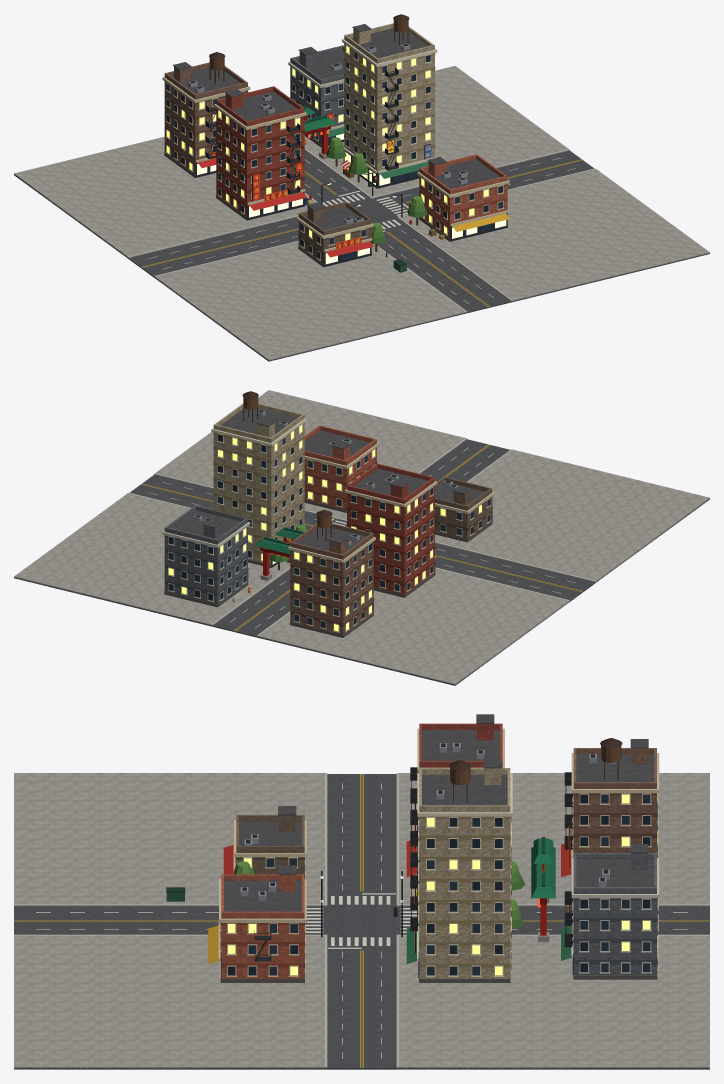
3 views of the same model, one above another, from view 1: azimuth 30°, elevation 25°; view 2: azimuth 150°, elevation 25°; view 3: azimuth 270°, elevation 25° (orthographic). The views are drawn at different scales.
Visible parts, largest first — view 1: street, midrise, tenement, shop_w, rowhouse, lowshop, shop_e, arch; view 2: street, midrise, tenement, shop_w, shop_e, rowhouse, lowshop, arch; view 3: street, midrise, shop_e, shop_w, rowhouse, lowshop, tenement, arch.
Boxes of the visible parts, <box> form: street: <box>14,66,709,361</box>; midrise: <box>342,14,437,188</box>; tenement: <box>214,86,306,220</box>; shop_w: <box>162,52,250,177</box>; rowhouse: <box>417,154,509,241</box>; lowshop: <box>296,201,373,267</box>; shop_e: <box>288,45,344,147</box>; arch: <box>302,106,337,159</box>; street: <box>14,390,709,685</box>; midrise: <box>211,391,306,567</box>; tenement: <box>344,463,437,597</box>; shop_w: <box>288,509,375,637</box>; shop_e: <box>162,505,250,607</box>; rowhouse: <box>304,425,379,512</box>; lowshop: <box>435,476,494,542</box>; arch: <box>253,527,304,580</box>; street: <box>14,773,709,1069</box>; midrise: <box>406,759,512,982</box>; shop_e: <box>561,844,659,979</box>; shop_w: <box>561,738,659,876</box>; rowhouse: <box>208,865,306,982</box>; lowshop: <box>223,806,306,878</box>; tenement: <box>406,714,504,876</box>; arch: <box>531,837,555,941</box>.
Size of the model in its own units: 92 by 30.96 by 92.
Materials: 87 (15 with a texture image).
